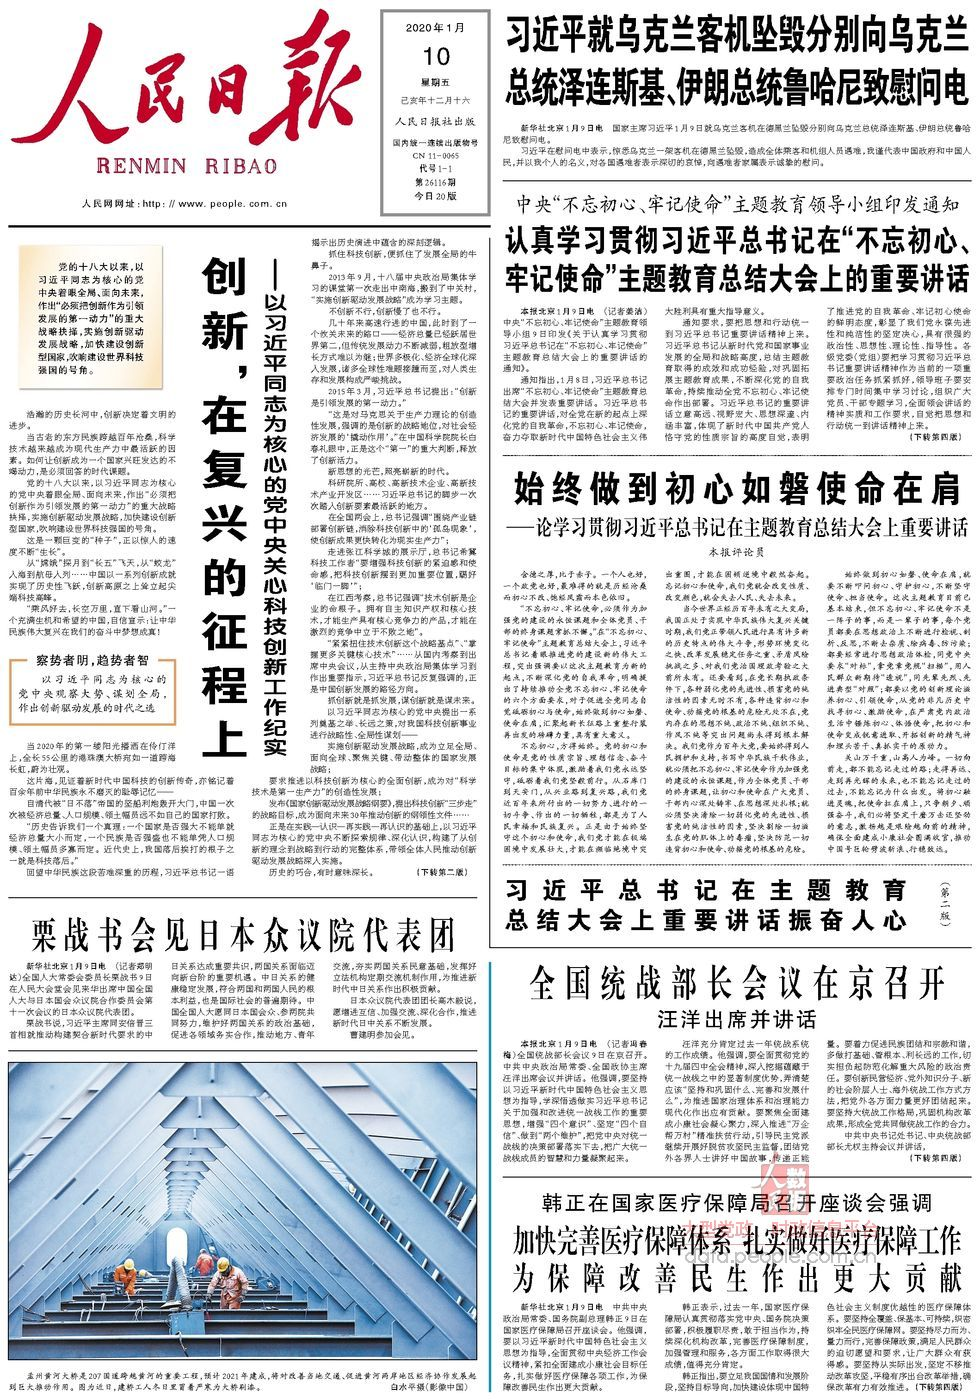pic: (3, 1056, 483, 1364)
